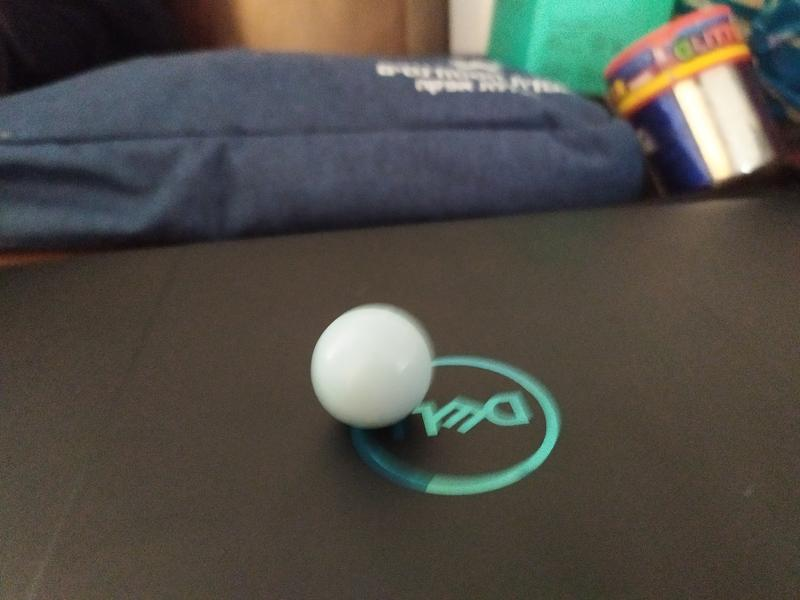Warning: (307, 299, 438, 433)
